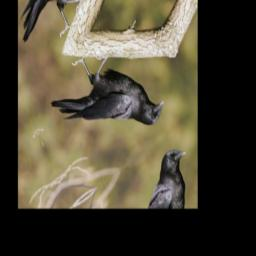Crow: (41, 15, 171, 180)
